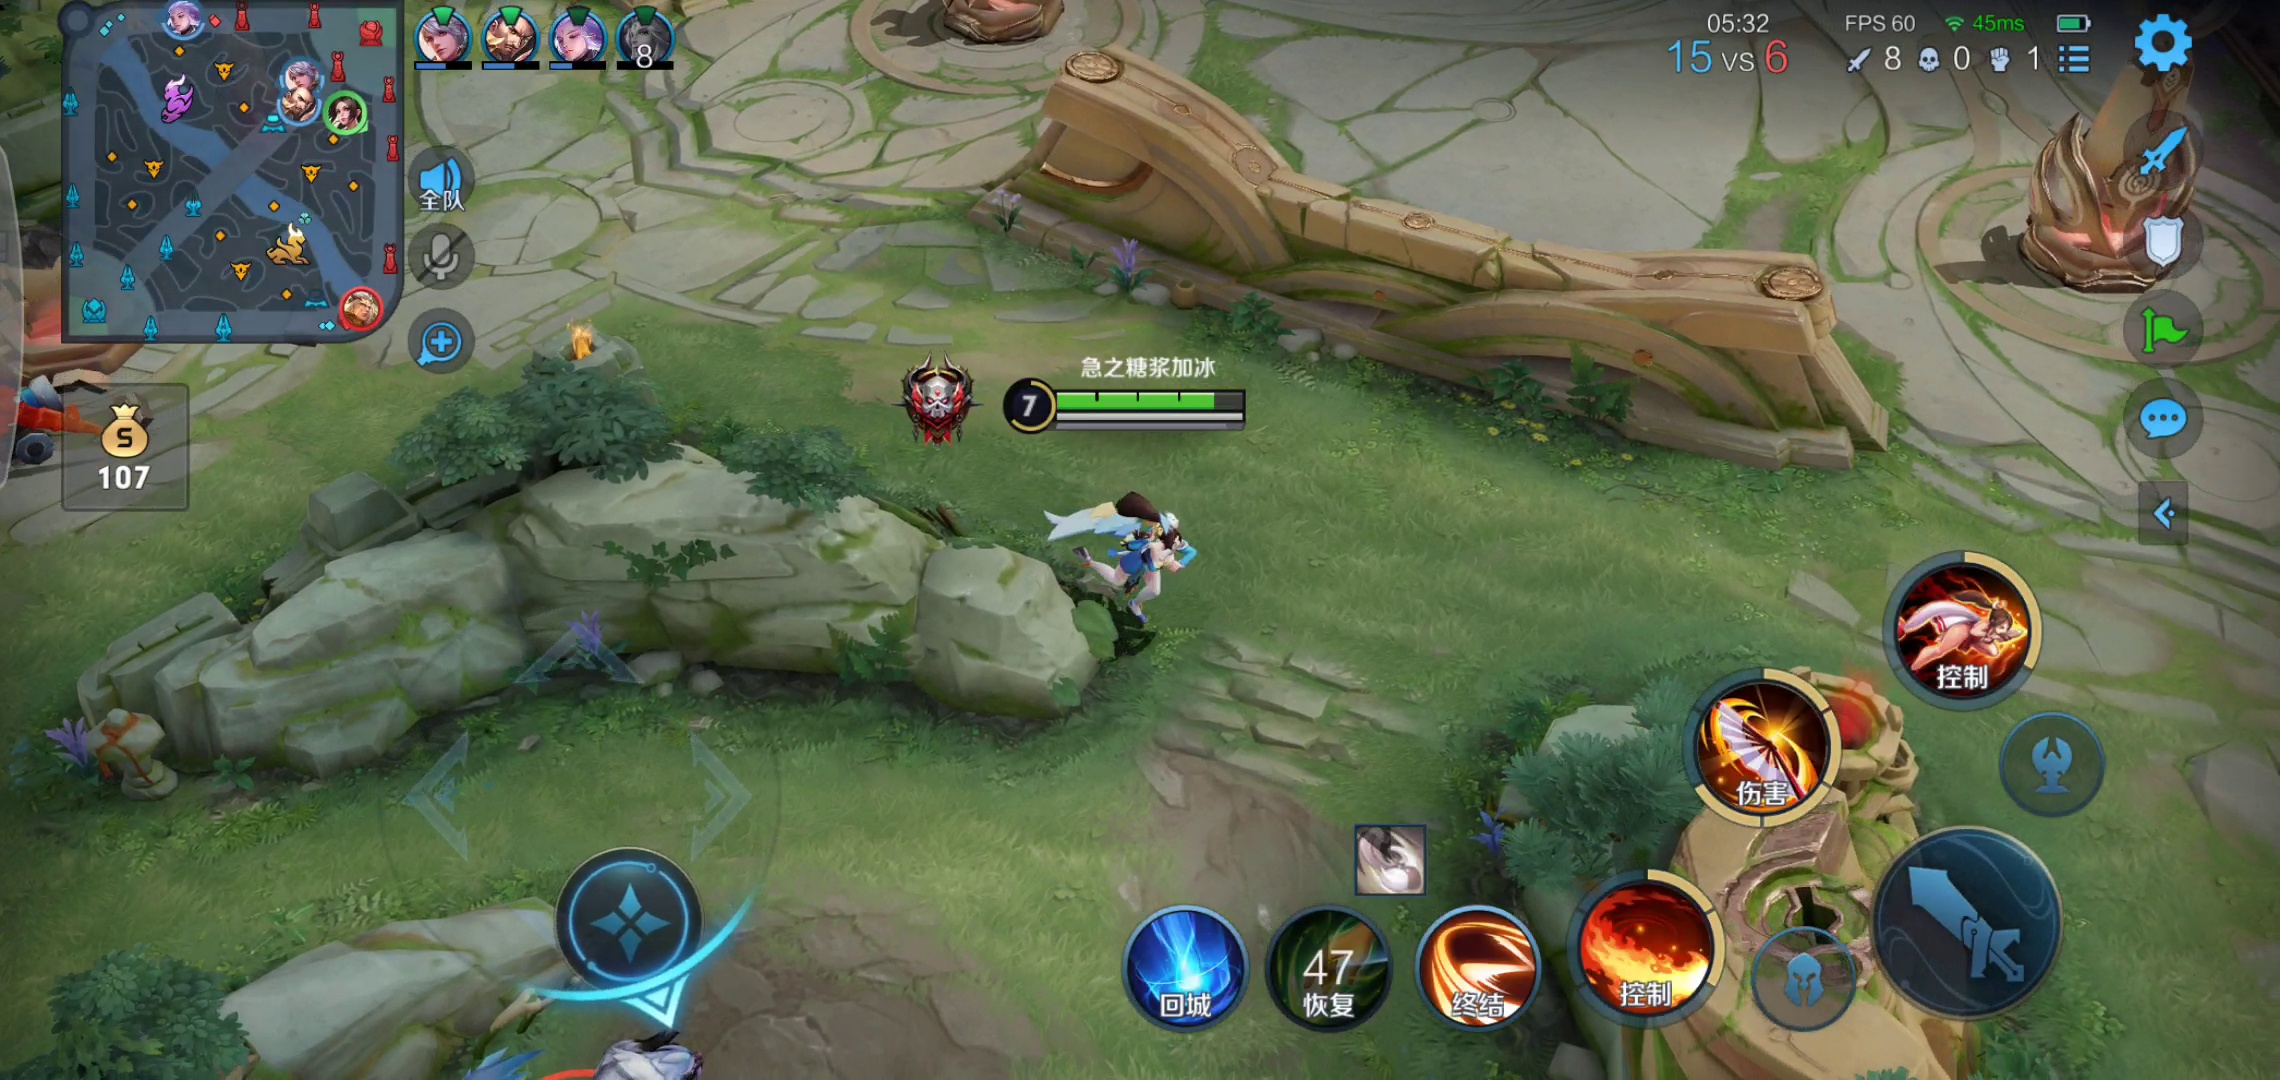hero: (1032, 480, 1205, 656)
tower: (2002, 15, 2252, 297), (887, 1, 1088, 47)
